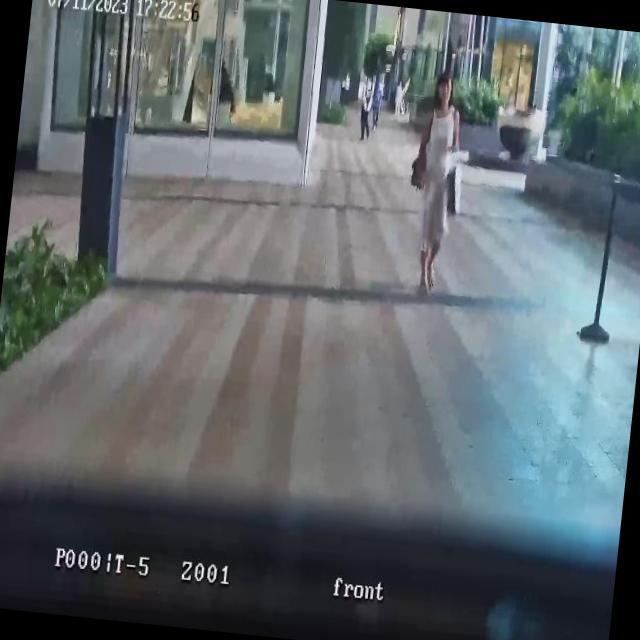person: (398, 65, 468, 287), (356, 77, 376, 142), (369, 72, 385, 130)
